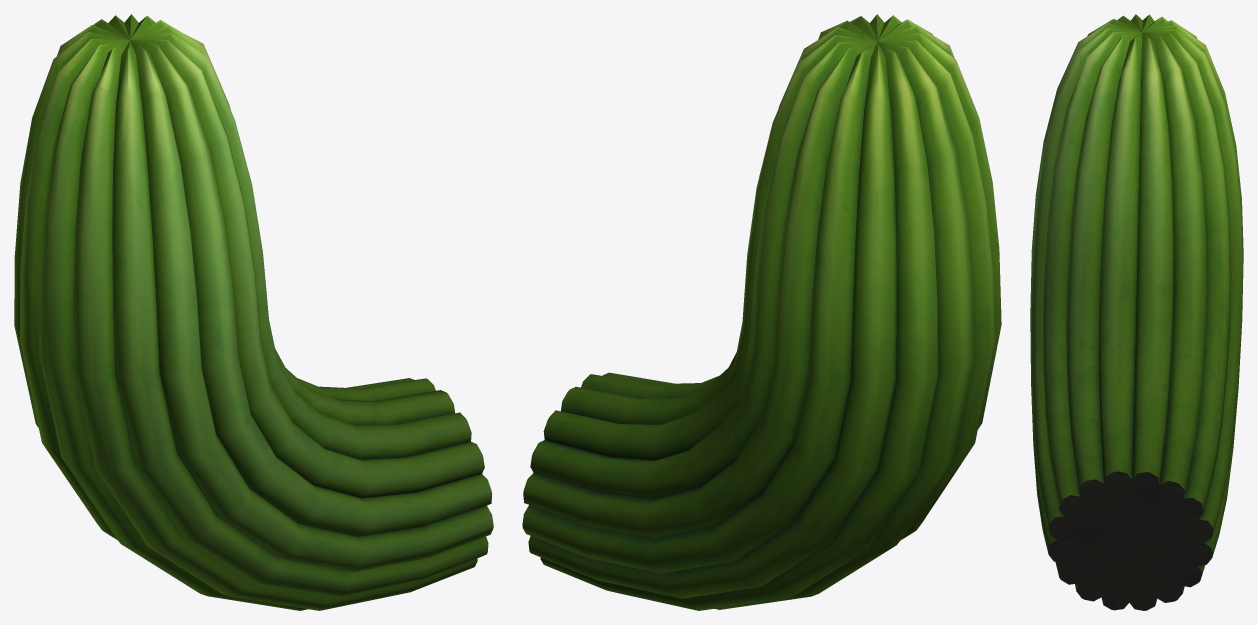
The model's file is DE_Cactus_28.fbx.
3 views of the same model, side by side, from view 1: azimuth 30°, elevation 25°; view 2: azimuth 150°, elevation 25°; view 3: azimuth 270°, elevation 25° (orthographic). The views are drawn at different scales.
Parts seen in each view (by area): view 1: DE_Cactus_28; view 2: DE_Cactus_28; view 3: DE_Cactus_28.
Part boxes in pixels (x1,y1,x2,y2): DE_Cactus_28: (14, 14, 493, 610); DE_Cactus_28: (522, 14, 1001, 610); DE_Cactus_28: (1030, 14, 1243, 610).
Size of the model in its own units: 2.26 by 3.22 by 1.31.
